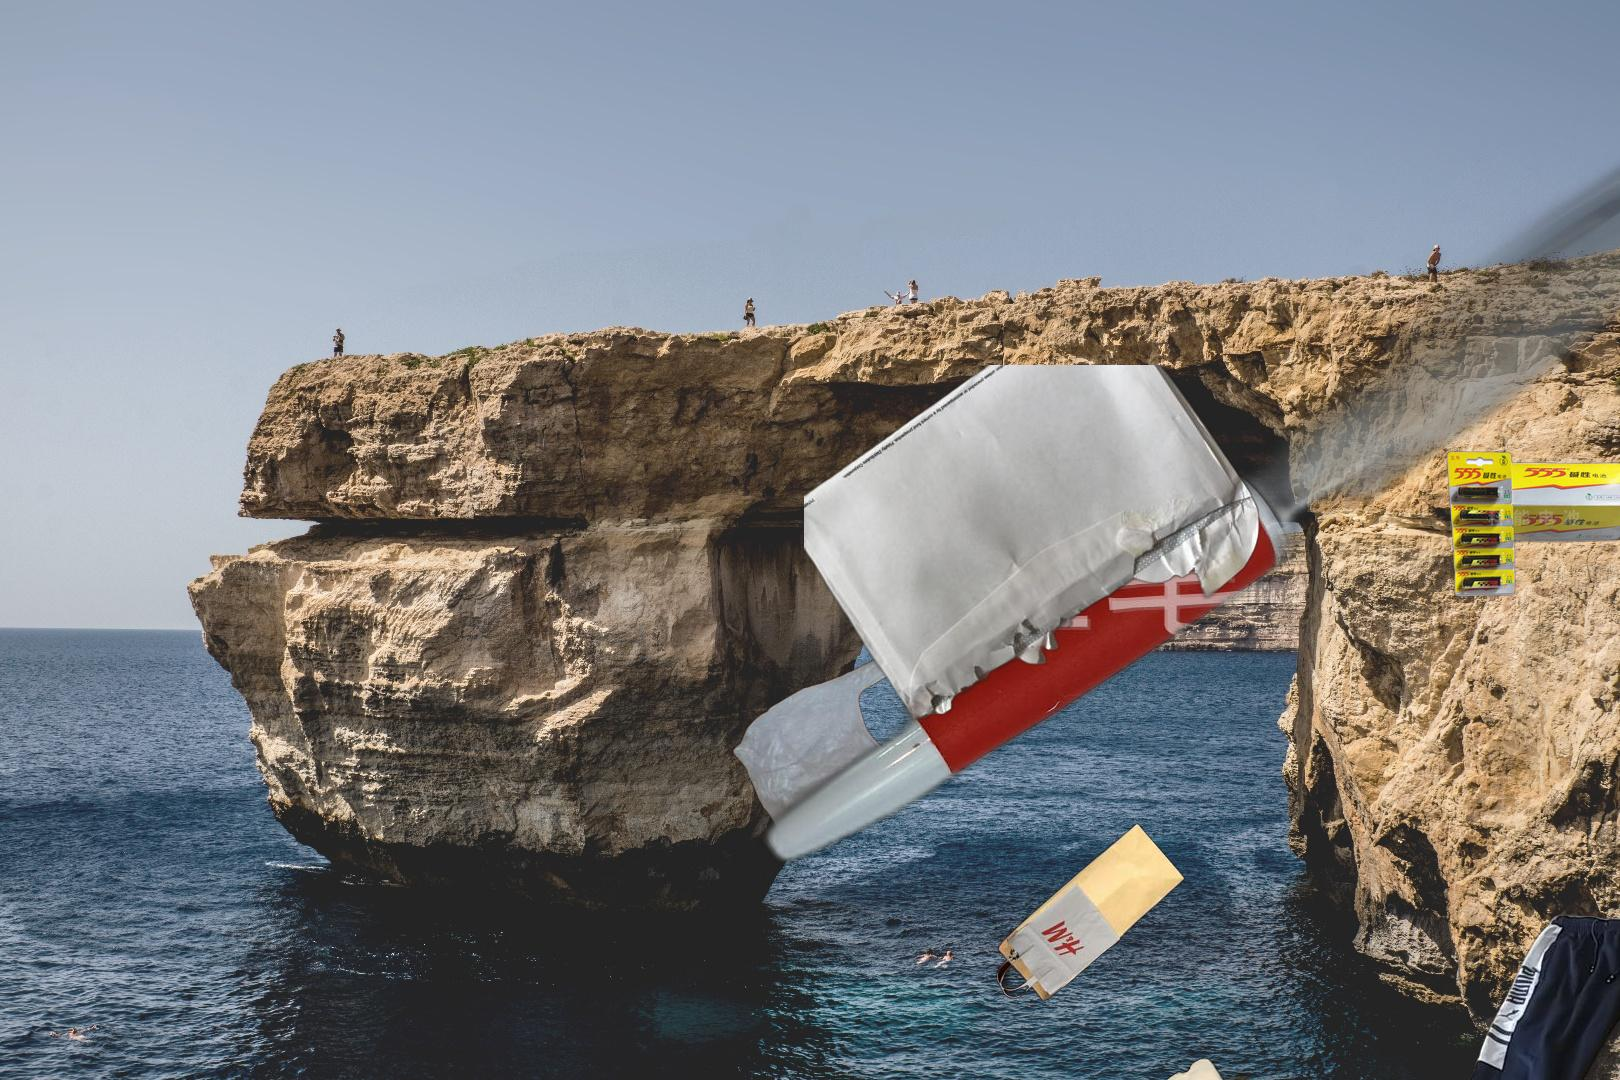battery: (1444, 450, 1620, 600)
clothes: (1424, 900, 1620, 1080)
paper: (804, 365, 1264, 723)
paper-bag: (993, 820, 1188, 1004)
penholder: (749, 99, 1620, 874)
plastic-bag: (730, 646, 947, 838)
plastic-bottles: (1158, 1052, 1276, 1080)
